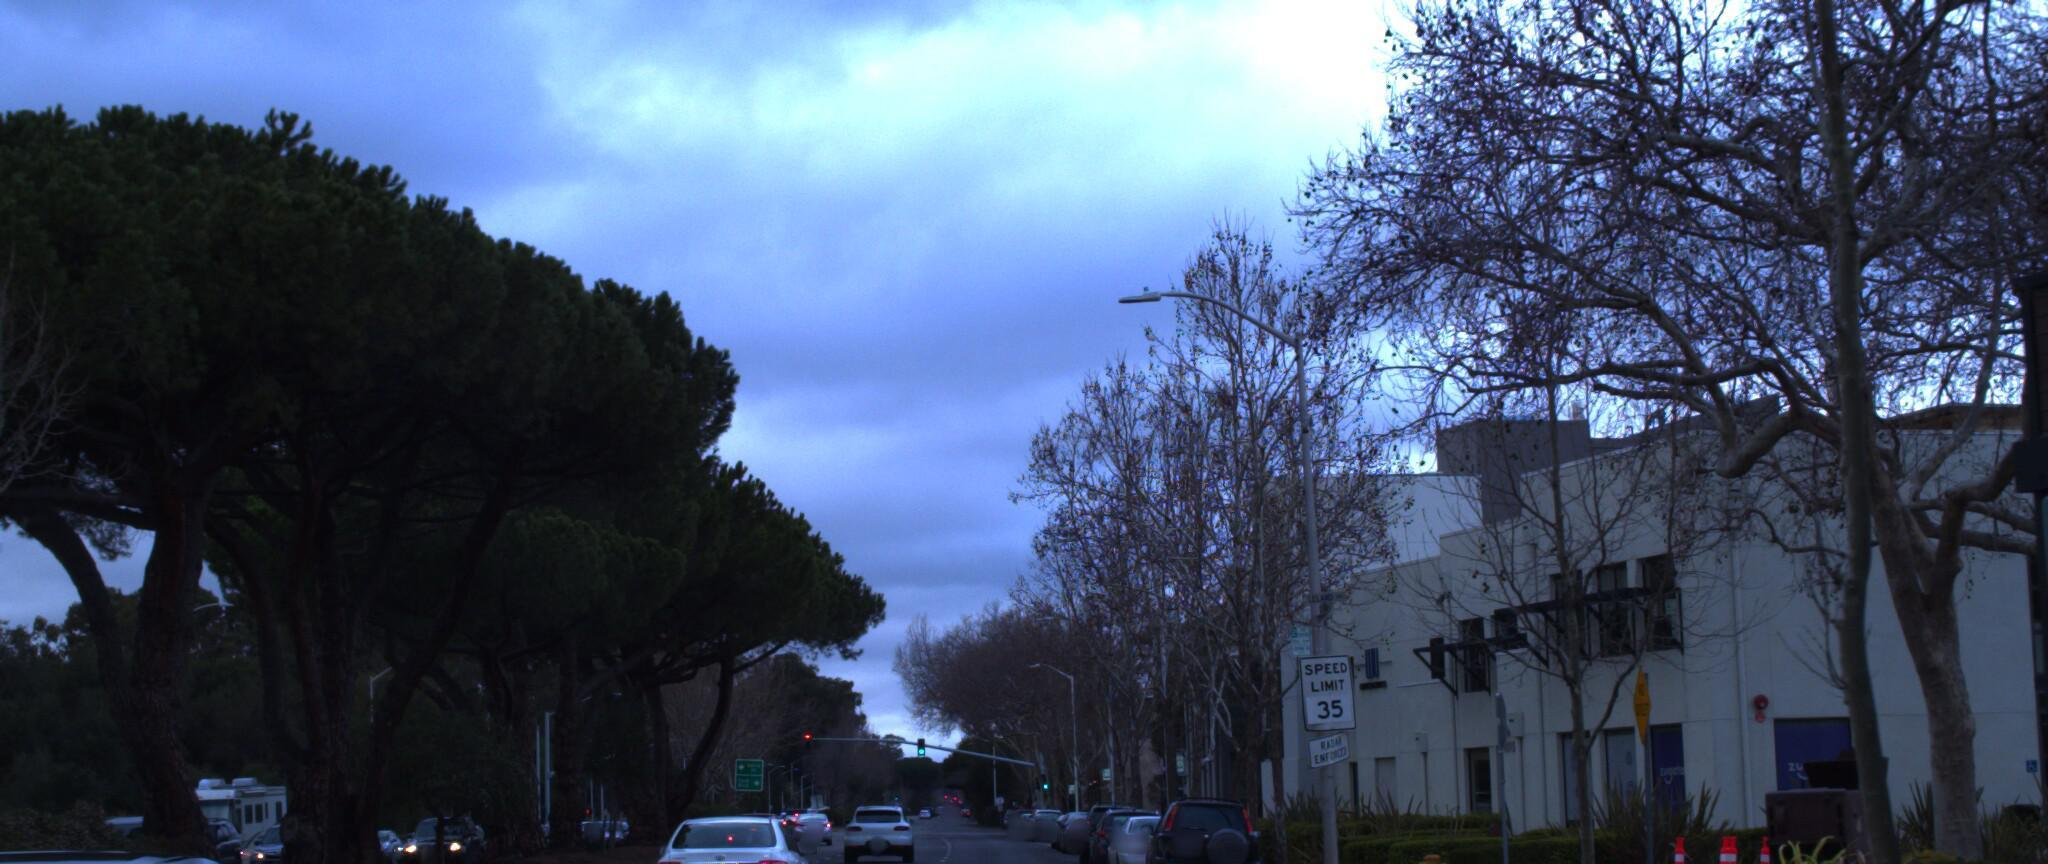car: (0, 825, 417, 864), (640, 795, 818, 864), (1138, 779, 1262, 864)
